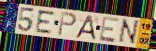5: (17, 7, 36, 33)
A: (74, 14, 97, 41)
E: (99, 16, 121, 44), (34, 9, 56, 35)
N: (117, 18, 141, 46)
P: (57, 11, 78, 37)
